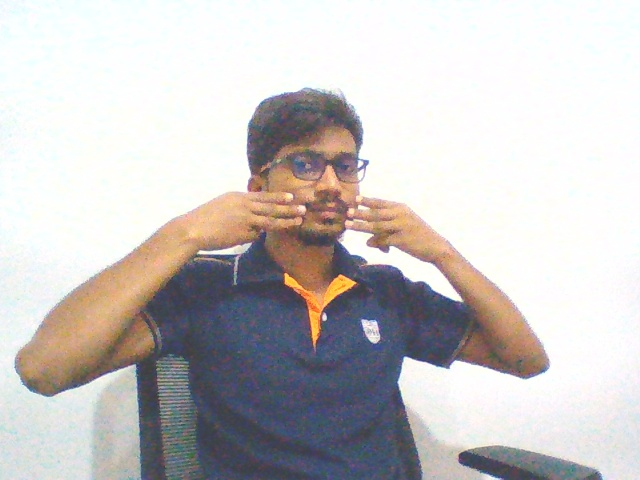cat: (176, 179, 457, 272)
